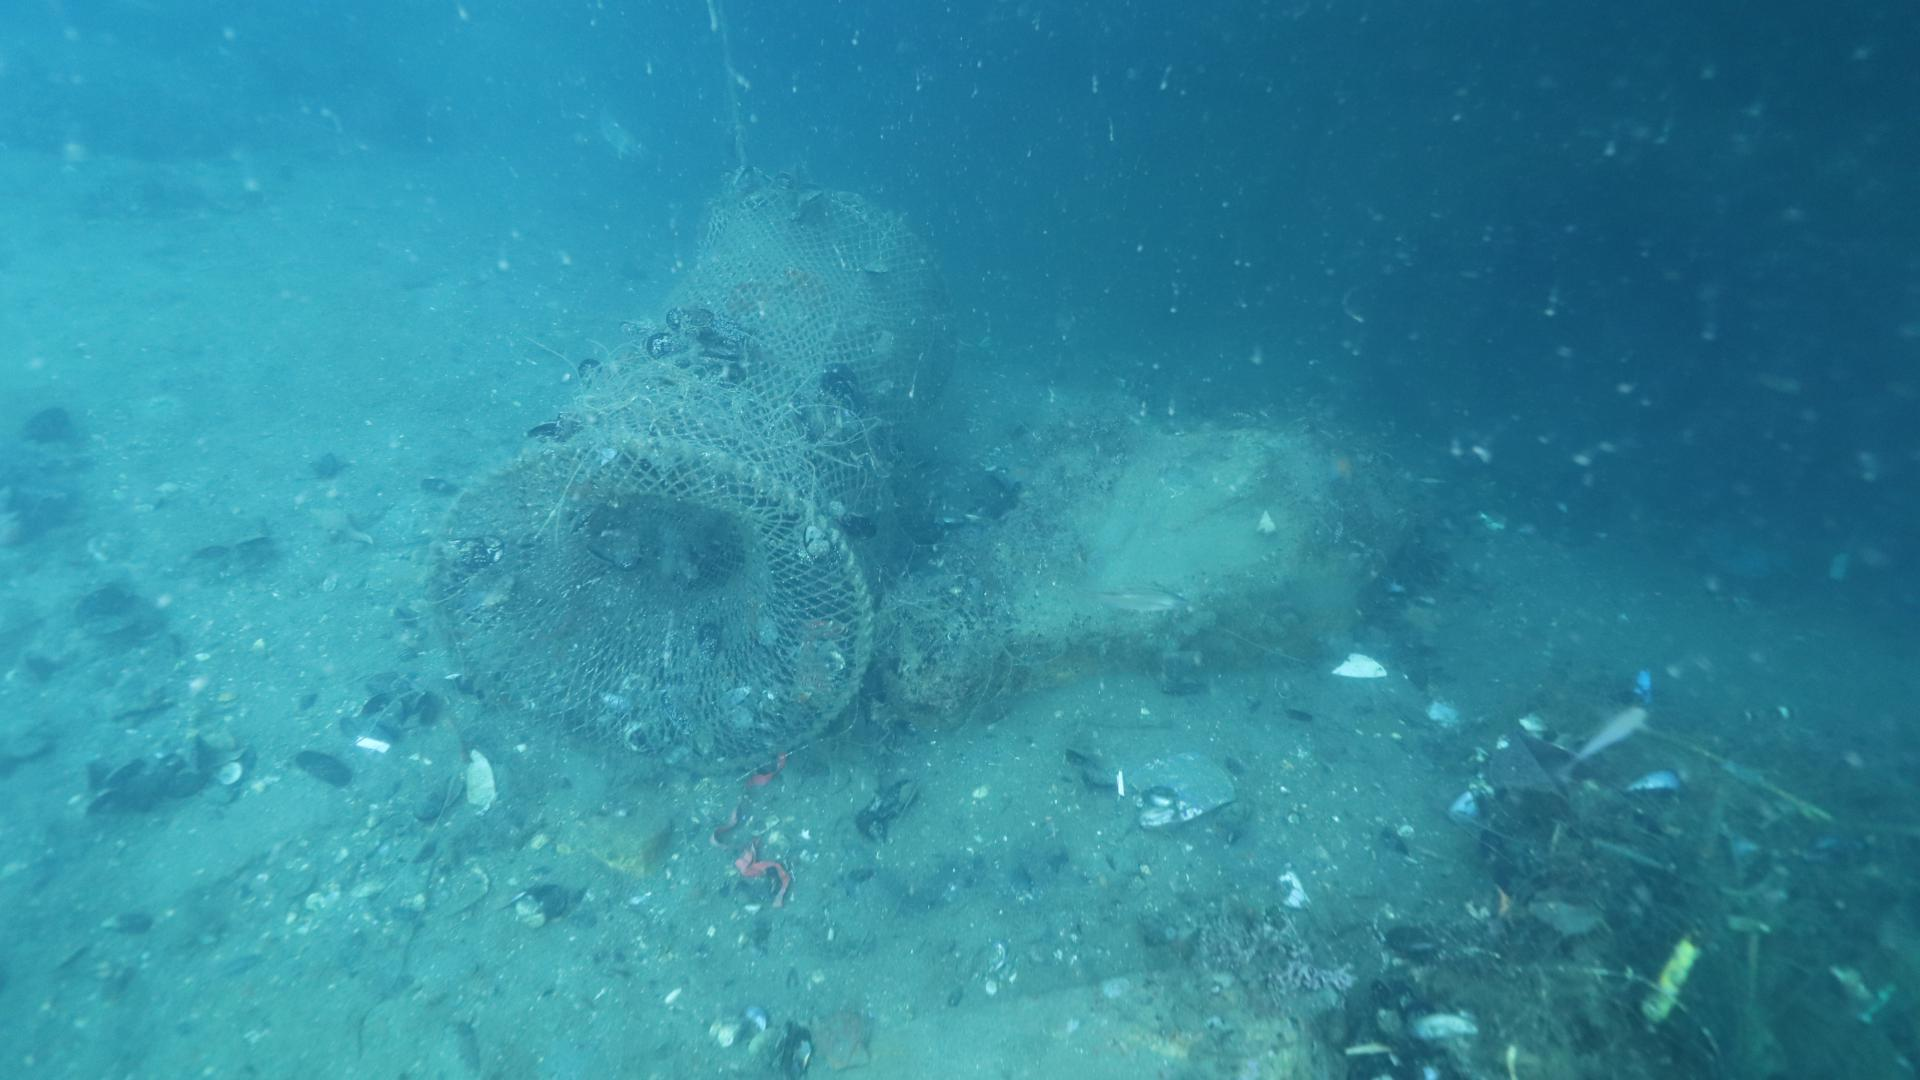rope: (712, 0, 750, 166)
spring fish trap: (411, 178, 960, 758)
